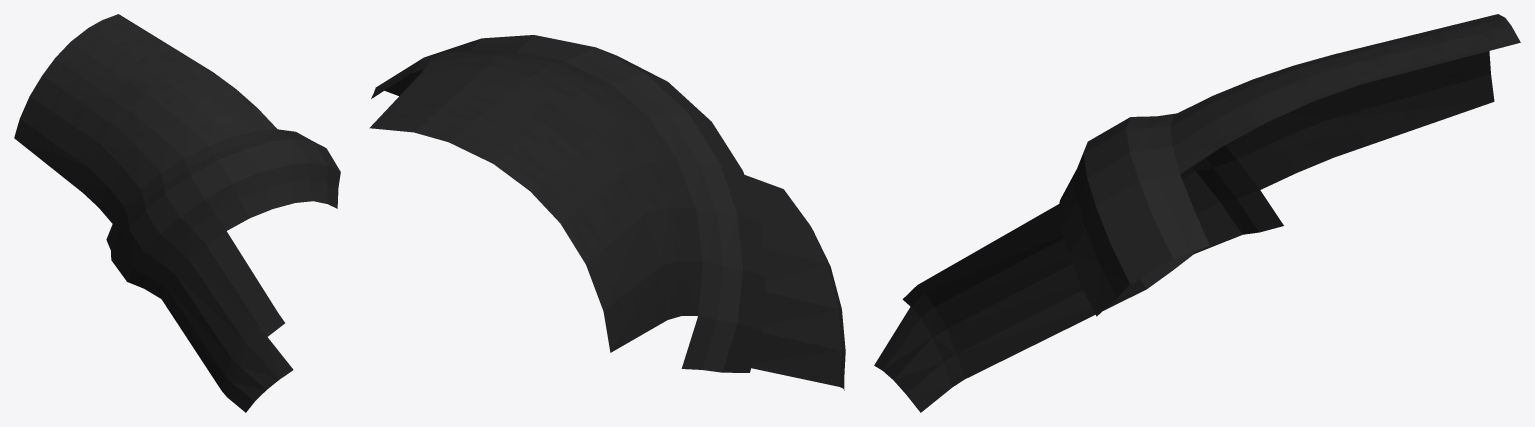
Rendered from T_Lower_Right.glb.
The picture shows the model from 3 angles, left to right: view 1: azimuth 30°, elevation 25°; view 2: azimuth 150°, elevation 25°; view 3: azimuth 270°, elevation 25°; orthographic projection. The views are drawn at different scales.
Visible parts, largest first — view 1: world; view 2: world; view 3: world.
Part boxes in pixels (<box>): world: <box>14,14,340,412</box>; world: <box>369,35,845,390</box>; world: <box>874,14,1520,412</box>.
Bounding box in the file's own units: 0.00225 × 0.00252 × 0.00355.
1 material, 1 textured.
